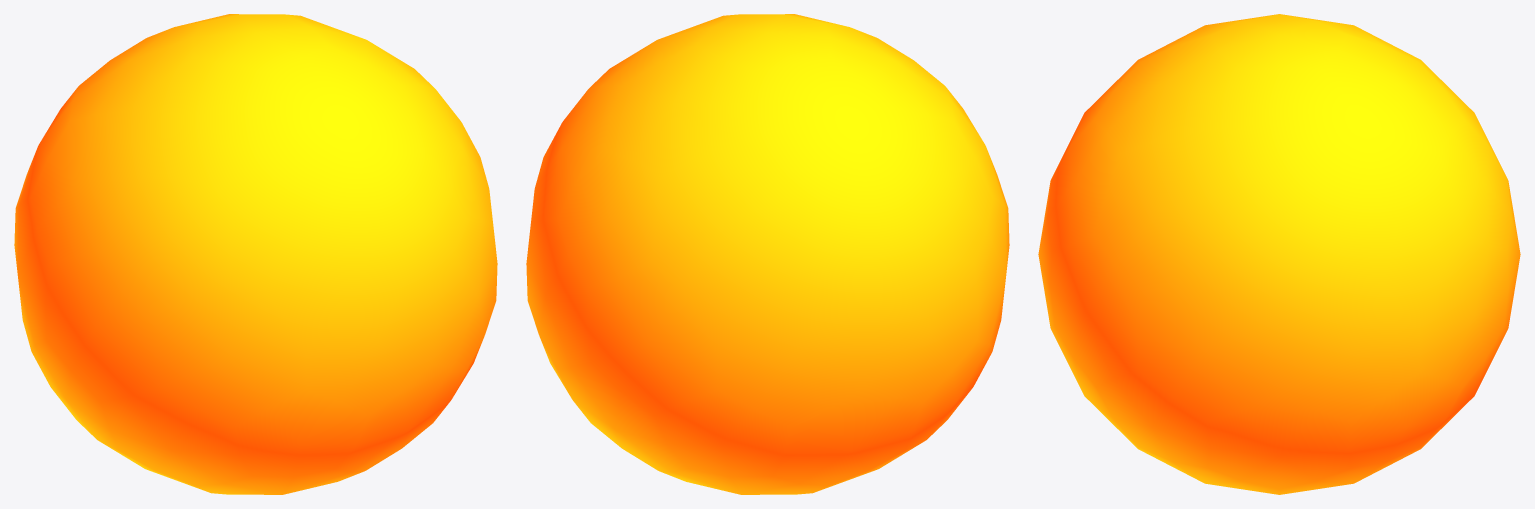
Rendered from scm_ball.glb.
3 renders of one model, left to right at view 1: azimuth 30°, elevation 25°; view 2: azimuth 150°, elevation 25°; view 3: azimuth 270°, elevation 25°, orthographic.
Parts seen in each view (by area): view 1: Object_6; view 2: Object_6; view 3: Object_6.
Boxes of the visible parts, <box> form: Object_6: <box>14,14,497,494</box>; Object_6: <box>526,14,1009,494</box>; Object_6: <box>1038,14,1520,494</box>.
Bounding box in the file's own units: 0.9157 × 0.9228 × 0.9174.
